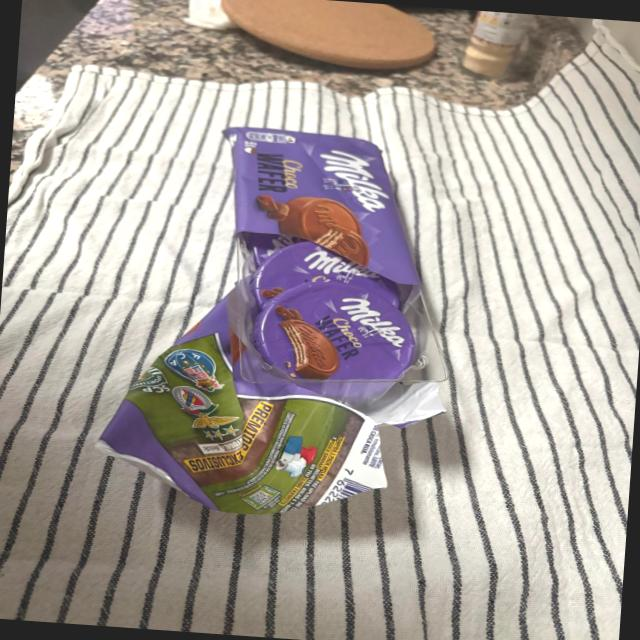damaged_package: (95, 118, 464, 528)
